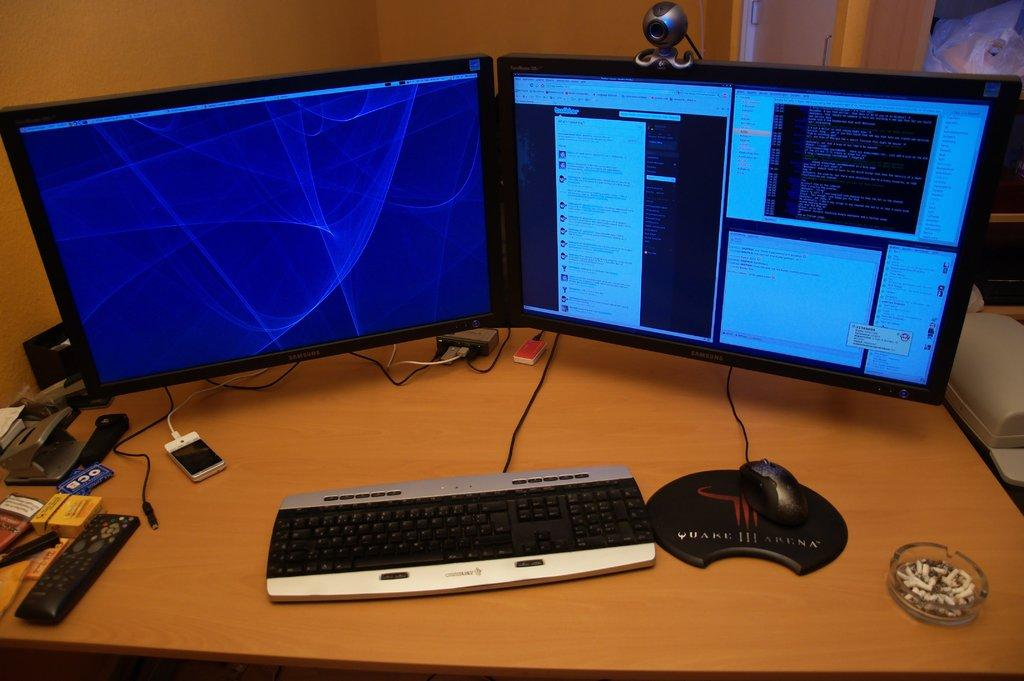Computer-mouse: (744, 455, 804, 525)
